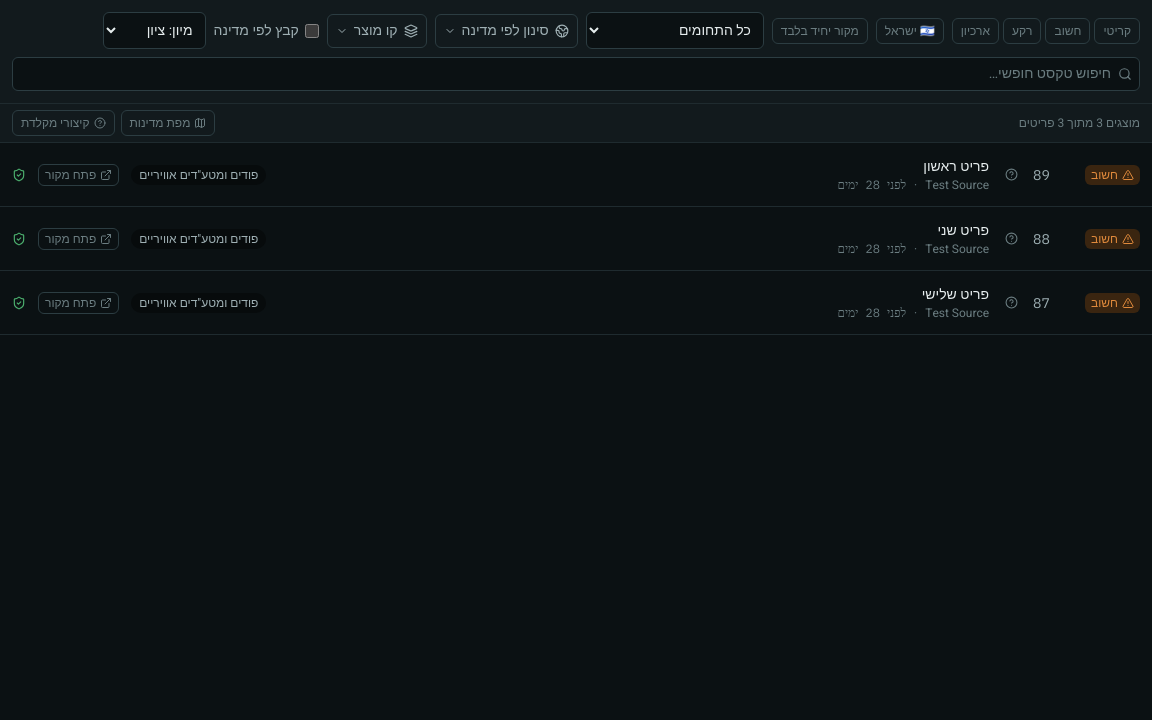
Scenario: FeedPage keyboard behavior › opens the inline quick-preview panel on a row double-click, without navigating
The image size is (1152, 720).
Double-click the list item with test id "feed-row-1": point(576, 175) [0,143,1151,207]
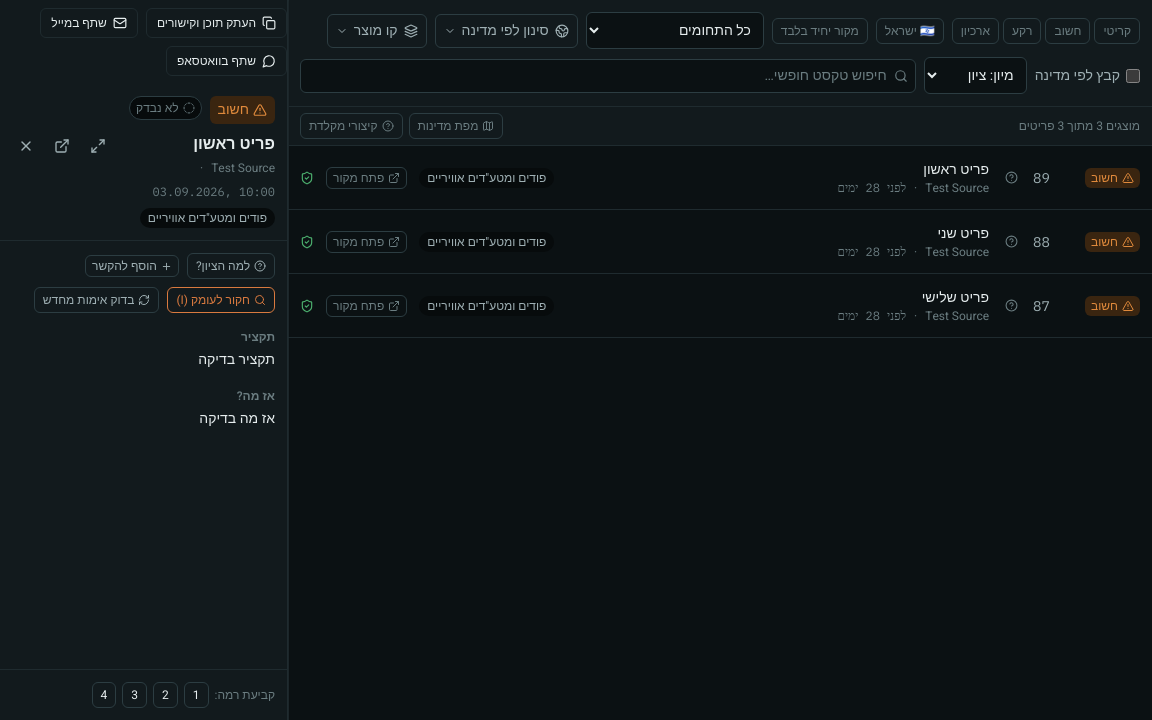
Result: the element with test id "feed-detail-panel" is shown at [0,0,287,719]
